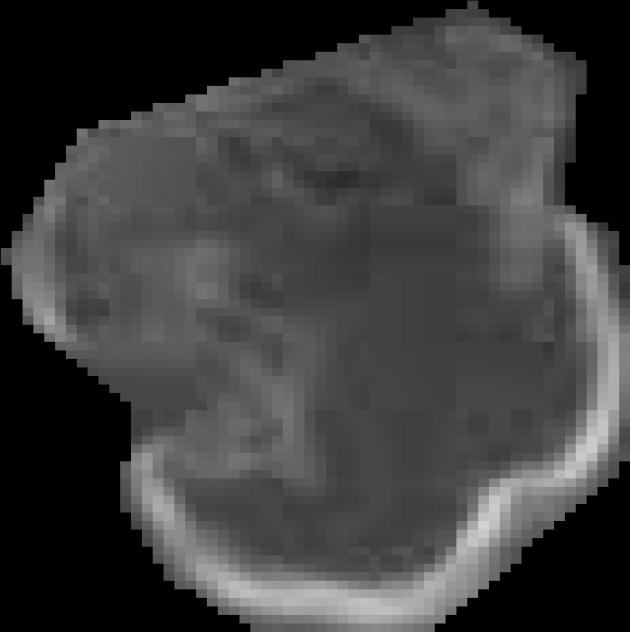tumor_moderate_chance: (1, 1, 630, 632)
